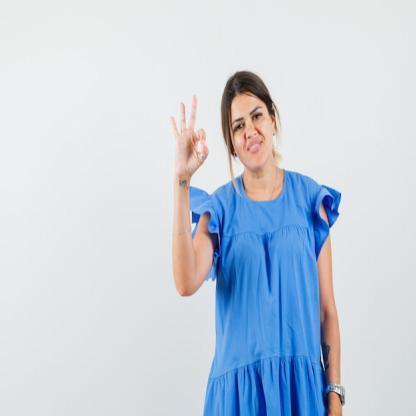ok: (167, 92, 210, 176)
